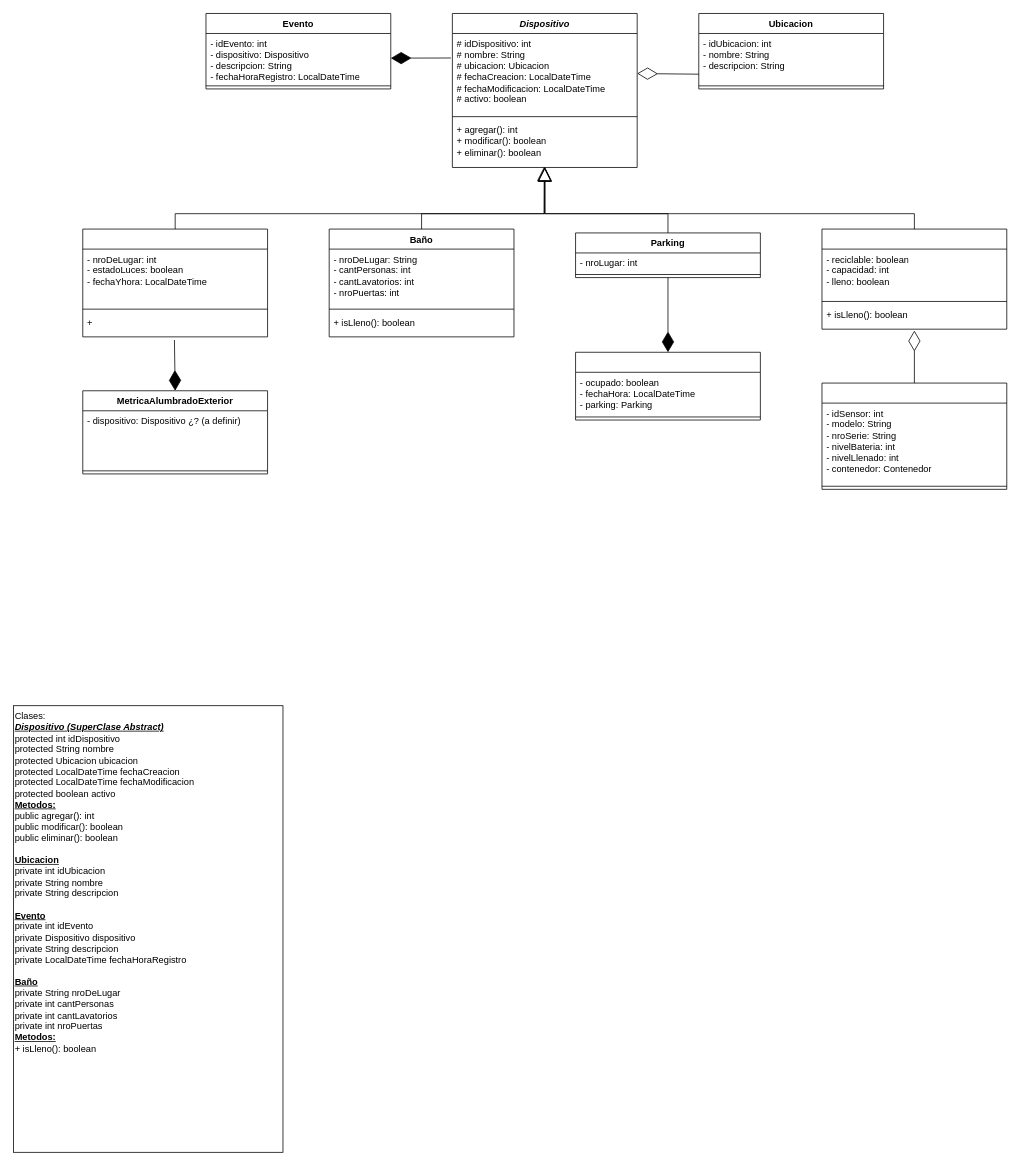
Image size: 1020x1166. Some labels were removed from this diagram. Here are the shapes that lost their labels. From the top down, the box of each, then its label:
(82, 228, 268, 337): Alumbrado
(821, 228, 1007, 329): Contenedor
(575, 352, 760, 420): MedicionParking
(821, 382, 1007, 489): SensorContenedor
